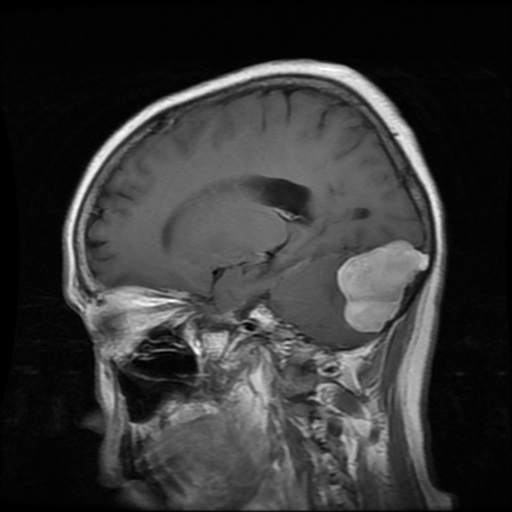meningioma: (336, 239, 430, 332)
